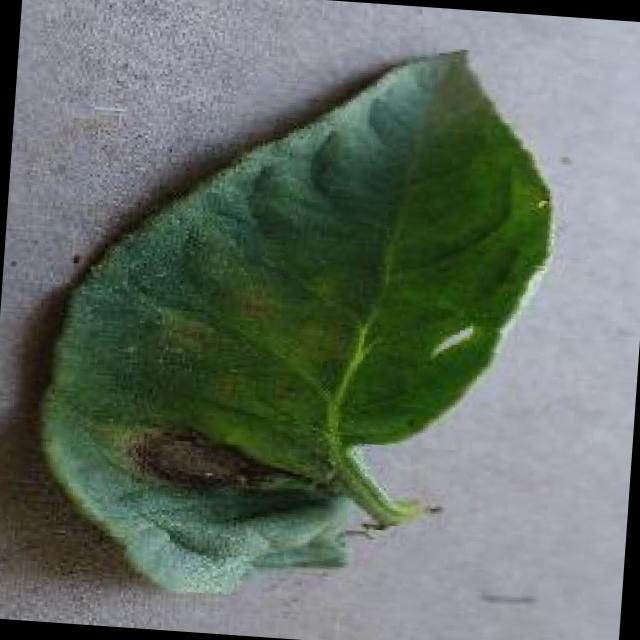Tomato_Early_Blight: (46, 104, 466, 566)
